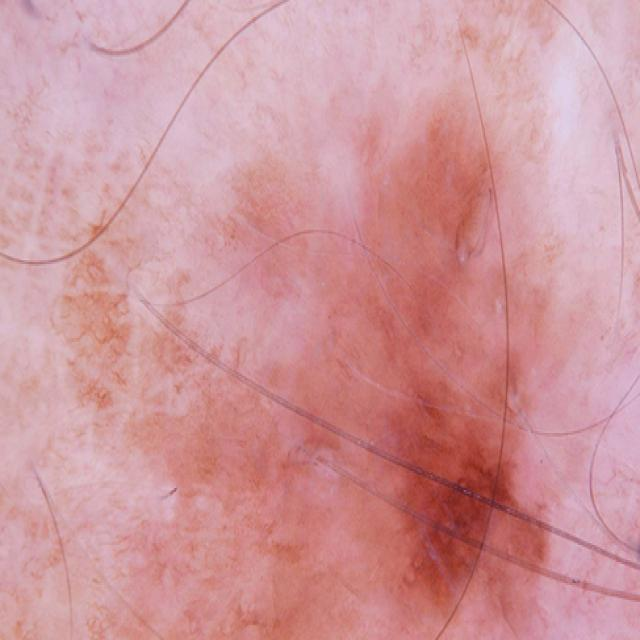Keratosis: (75, 108, 594, 640)
